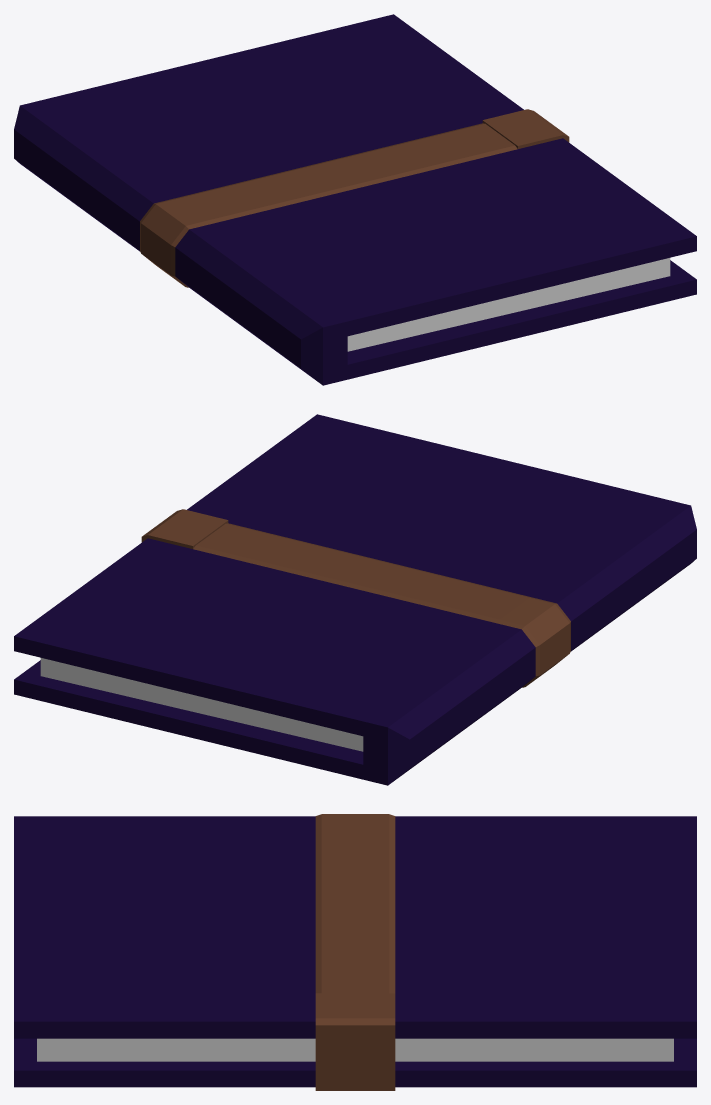
The model's file is AgendaClosedV1Blue.fbx.
3 views of the same model, one above another, from view 1: azimuth 30°, elevation 25°; view 2: azimuth 150°, elevation 25°; view 3: azimuth 270°, elevation 25° (orthographic). The views are drawn at different scales.
Parts seen in each view (by area): view 1: AgendaClosedV1Blue; view 2: AgendaClosedV1Blue; view 3: AgendaClosedV1Blue.
Part boxes in pixels (x1,y1,x2,y2): AgendaClosedV1Blue: (14, 14, 696, 385); AgendaClosedV1Blue: (14, 414, 696, 785); AgendaClosedV1Blue: (14, 814, 696, 1090).
Bounding box in the file's own units: 14.2 × 2.21 × 18.84.
